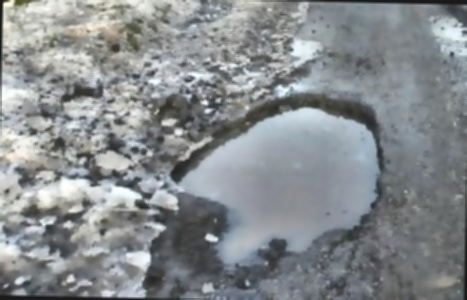pothole: (162, 88, 389, 268), (57, 84, 103, 114), (89, 146, 135, 171)
